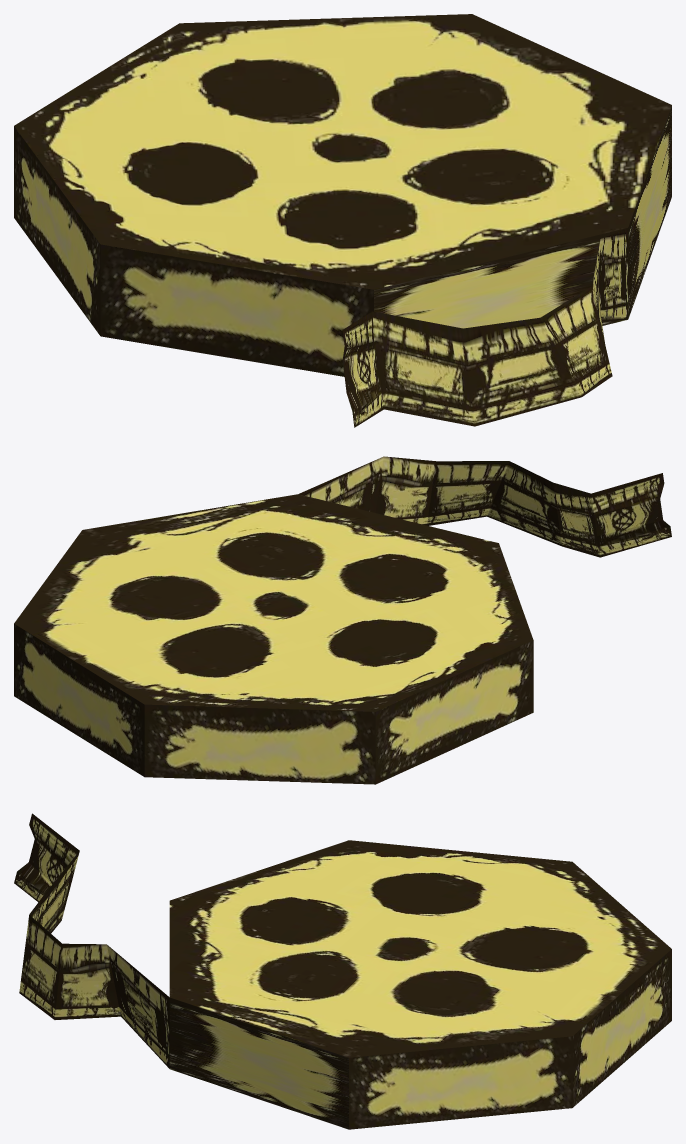
File: ev-reel.opt.glb
3 views of the same model, one above another, from view 1: azimuth 30°, elevation 25°; view 2: azimuth 150°, elevation 25°; view 3: azimuth 270°, elevation 25° (orthographic). The views are drawn at different scales.
Parts seen in each view (by area): view 1: Plane_reel_0; view 2: Plane_reel_0; view 3: Plane_reel_0.
Boxes of the visible parts, bbox=[...] form: Plane_reel_0: bbox=[14, 14, 671, 427]; Plane_reel_0: bbox=[14, 456, 671, 784]; Plane_reel_0: bbox=[14, 813, 671, 1129].
Size of the model in its own units: 975 by 237 by 1245.
Materials: 1 (1 with a texture image).
